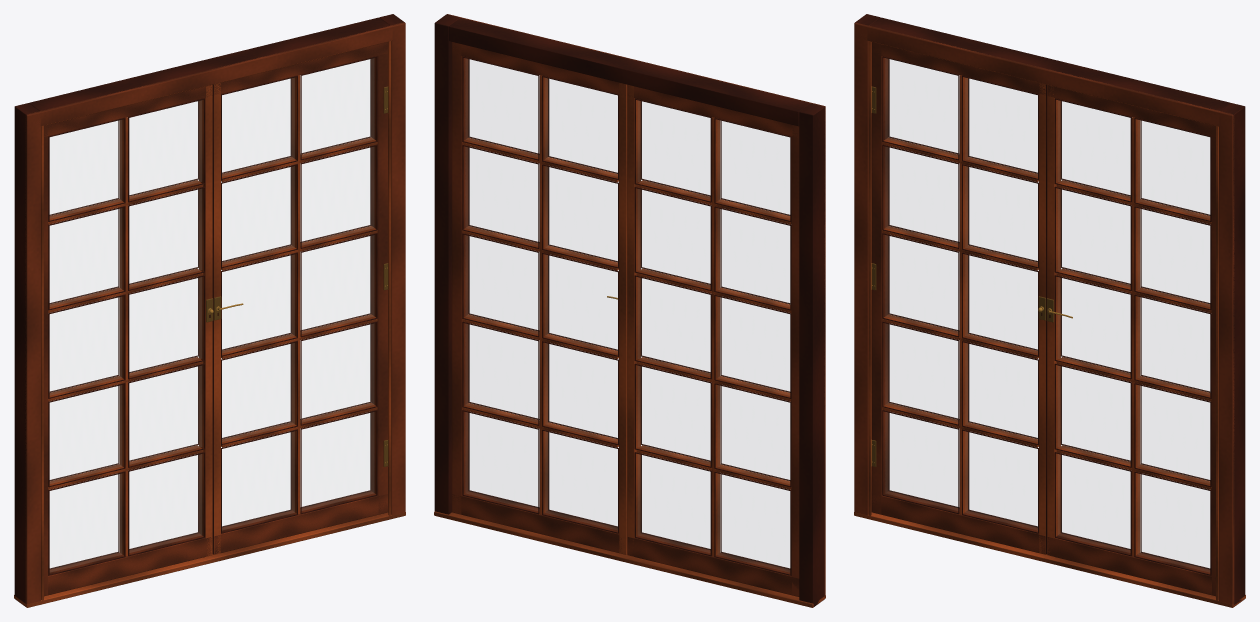
Rendered from asset.glb.
3 renders of one model, left to right at view 1: azimuth 30°, elevation 25°; view 2: azimuth 150°, elevation 25°; view 3: azimuth 330°, elevation 25°, orthographic.
Visible parts, largest first — view 1: MaterialBatch_French_door_clear_household_glazing, MaterialBatch_French_door_reddish_stained_oak, MaterialBatch_French_door_oak_edge_grain, MaterialBatch_French_door_dark_oak_reveal, MaterialBatch_French_door_aged_dark_brass_hardware; view 2: MaterialBatch_French_door_clear_household_glazing, MaterialBatch_French_door_dark_oak_reveal, MaterialBatch_French_door_oak_edge_grain, MaterialBatch_French_door_reddish_stained_oak; view 3: MaterialBatch_French_door_clear_household_glazing, MaterialBatch_French_door_reddish_stained_oak, MaterialBatch_French_door_oak_edge_grain, MaterialBatch_French_door_dark_oak_reveal, MaterialBatch_French_door_aged_dark_brass_hardware.
Part boxes in pixels (x1,y1,x2,y2): MaterialBatch_French_door_clear_household_glazing: [50, 59, 373, 571]; MaterialBatch_French_door_reddish_stained_oak: [25, 22, 405, 604]; MaterialBatch_French_door_oak_edge_grain: [14, 40, 405, 607]; MaterialBatch_French_door_dark_oak_reveal: [14, 14, 404, 606]; MaterialBatch_French_door_aged_dark_brass_hardware: [206, 86, 387, 466]; MaterialBatch_French_door_clear_household_glazing: [466, 59, 789, 571]; MaterialBatch_French_door_dark_oak_reveal: [434, 14, 825, 607]; MaterialBatch_French_door_oak_edge_grain: [434, 75, 825, 607]; MaterialBatch_French_door_reddish_stained_oak: [447, 14, 825, 598]; MaterialBatch_French_door_clear_household_glazing: [886, 59, 1209, 571]; MaterialBatch_French_door_reddish_stained_oak: [854, 22, 1234, 606]; MaterialBatch_French_door_oak_edge_grain: [854, 40, 1245, 607]; MaterialBatch_French_door_dark_oak_reveal: [855, 14, 1245, 606]; MaterialBatch_French_door_aged_dark_brass_hardware: [872, 86, 1053, 466].
Size of the model in its own units: 66 by 82 by 4.
6 materials, 6 textured.
